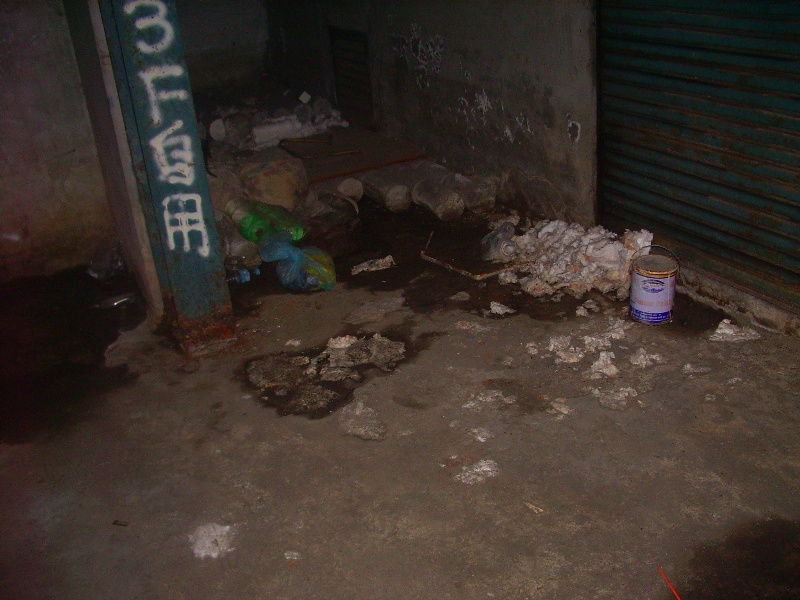bucket: (628, 251, 681, 325)
plastic_bag: (256, 230, 337, 295)
